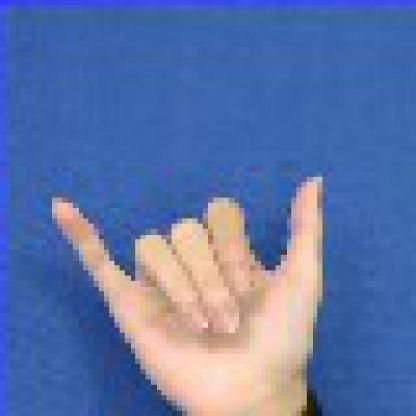six: (32, 161, 400, 411)
